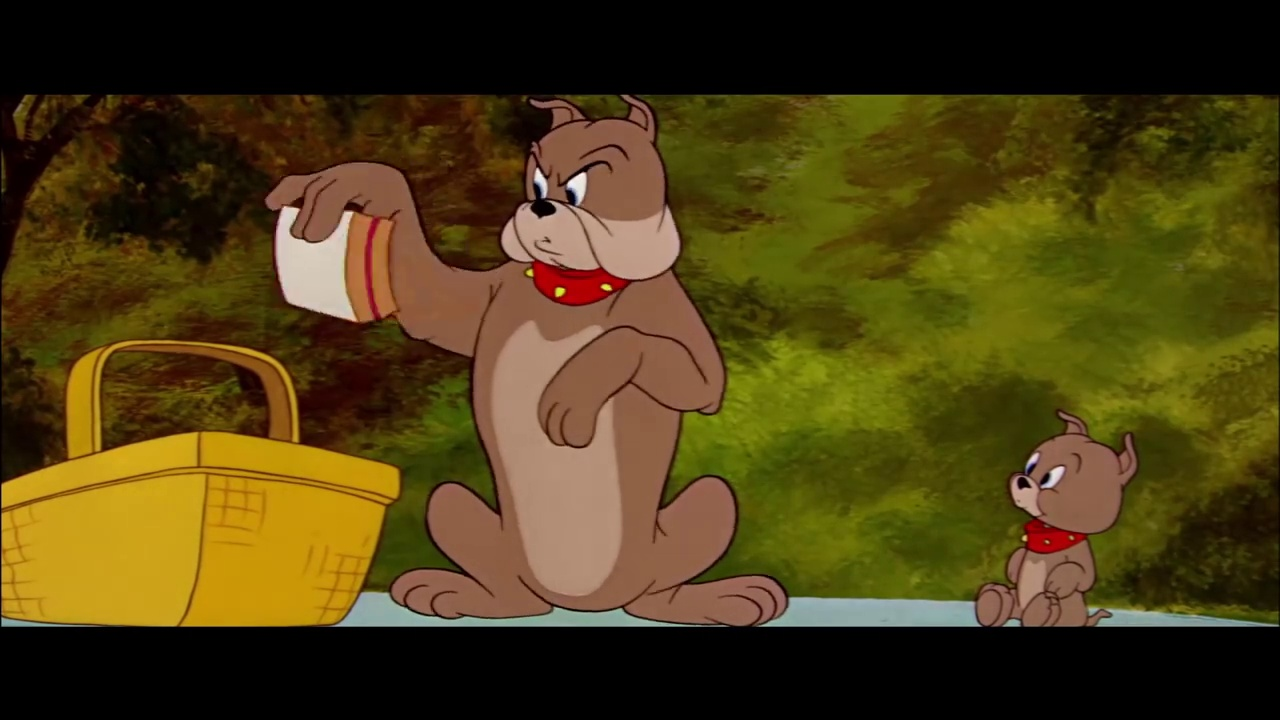spike: (495, 90, 681, 309)
